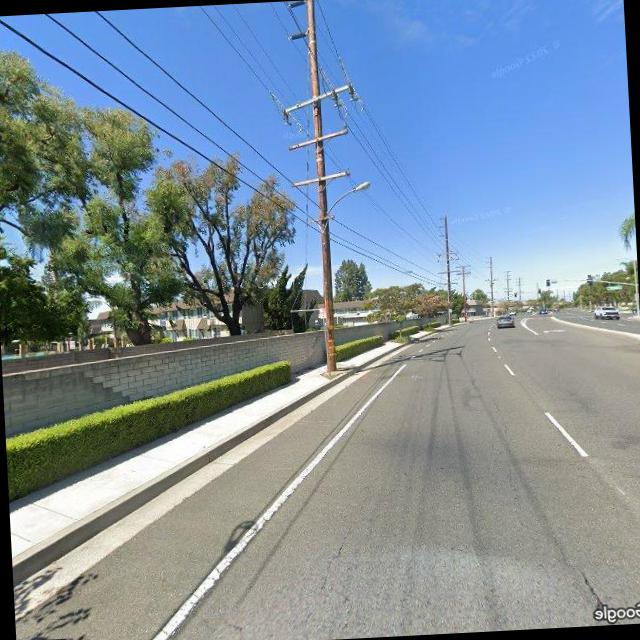crack: (316, 522, 360, 594)
